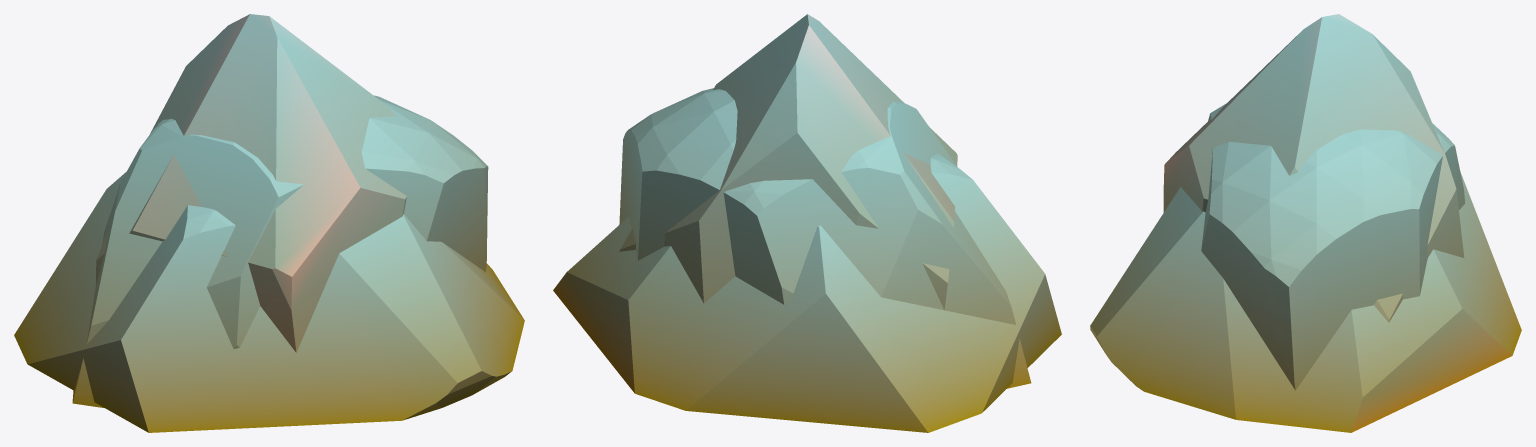
The model's file is sunvine_boulders.glb.
3 views of the same model, side by side, from view 1: azimuth 30°, elevation 25°; view 2: azimuth 150°, elevation 25°; view 3: azimuth 270°, elevation 25° (orthographic). The views are drawn at different scales.
Visible parts, largest first — view 1: Boulder_Step_C, Boulder_Spire_B, Boulder_Slab_A; view 2: Boulder_Step_C, Boulder_Slab_A, Boulder_Spire_B; view 3: Boulder_Step_C, Boulder_Slab_A, Boulder_Spire_B.
Part boxes in pixels (bbox=[...]): Boulder_Step_C: bbox=[14, 172, 524, 432]; Boulder_Spire_B: bbox=[96, 14, 406, 352]; Boulder_Slab_A: bbox=[72, 95, 488, 407]; Boulder_Step_C: bbox=[553, 153, 1061, 432]; Boulder_Slab_A: bbox=[619, 88, 1031, 388]; Boulder_Spire_B: bbox=[619, 14, 957, 309]; Boulder_Step_C: bbox=[1090, 172, 1521, 432]; Boulder_Slab_A: bbox=[1201, 103, 1464, 390]; Boulder_Spire_B: bbox=[1163, 14, 1464, 322].
Bounding box in the file's own units: 2.12 × 1.51 × 1.86.
